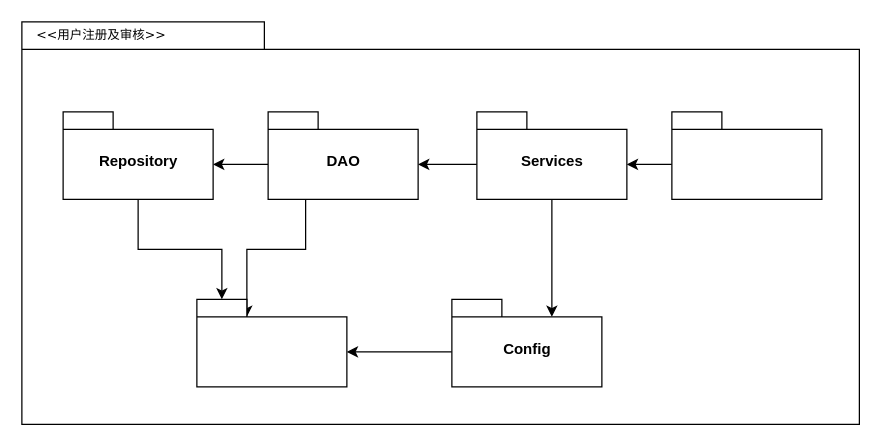
This 881x446 diagram has some shape labels left out. The centre of each missing label's shape, as x and y in pixels:
"Controller" belongs at (x=746, y=155).
"Model" belongs at (x=271, y=342).
